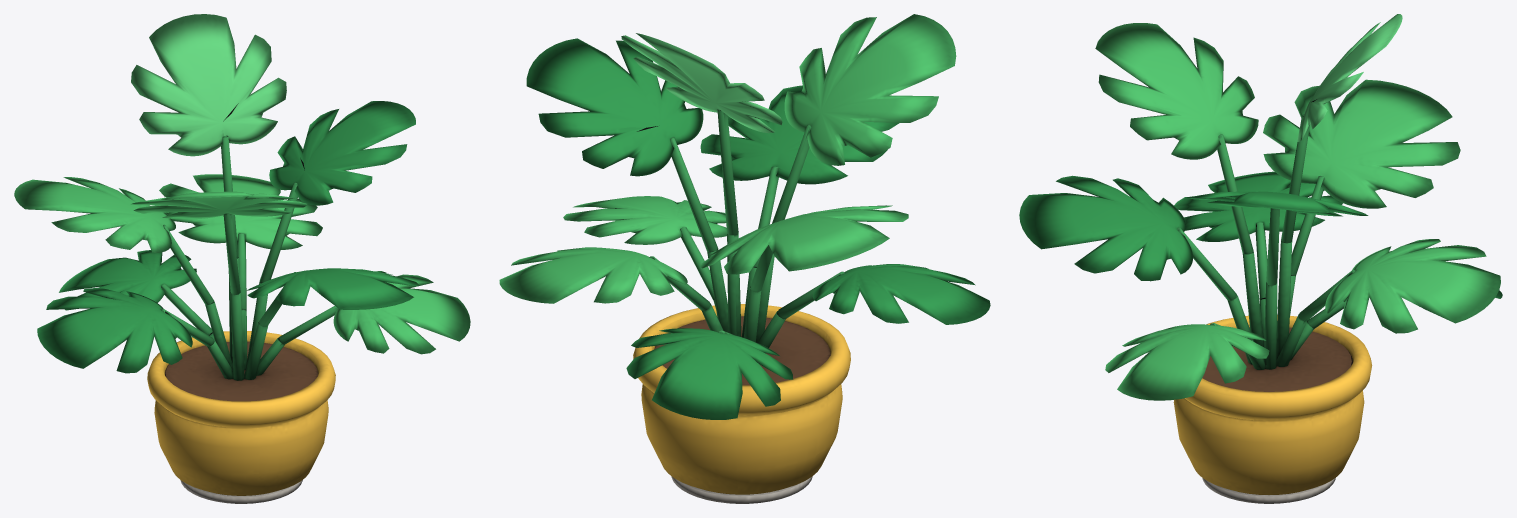
File: plant_monstera.glb
3 renders of one model, left to right at view 1: azimuth 30°, elevation 25°; view 2: azimuth 150°, elevation 25°; view 3: azimuth 270°, elevation 25°, orthographic. The views are drawn at different scales.
Visible parts, largest first — view 1: plant_monstera; view 2: plant_monstera; view 3: plant_monstera.
Part boxes in pixels (box(x1,y1,x2,y2)): plant_monstera: box(14, 14, 470, 503); plant_monstera: box(499, 14, 990, 503); plant_monstera: box(1019, 14, 1502, 503).
Size of the model in its own units: 1.54 by 1.62 by 1.55.
Materials: 7 (7 with a texture image).
